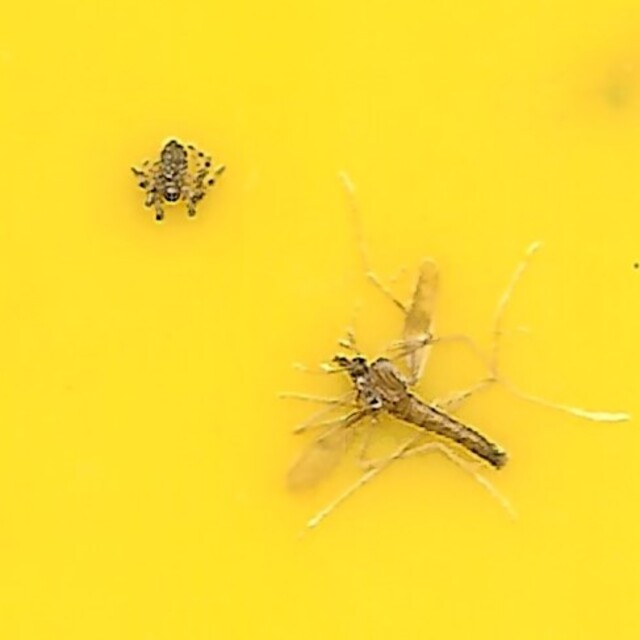Araneae: (131, 134, 219, 226)
Nematocera: (281, 260, 509, 506)
